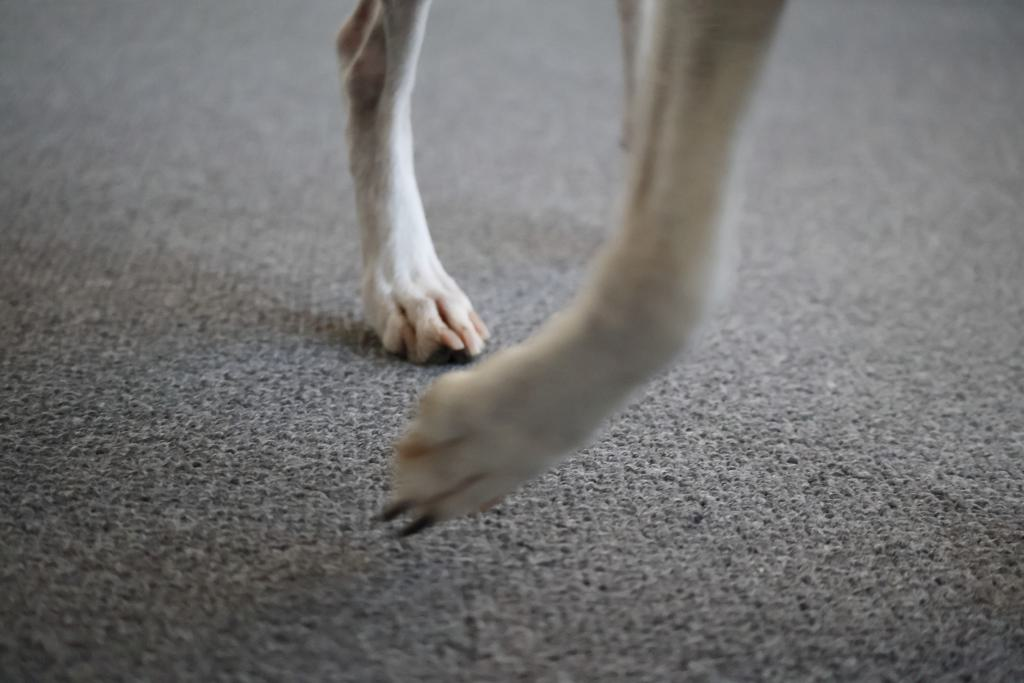Dog: (323, 0, 791, 553)
